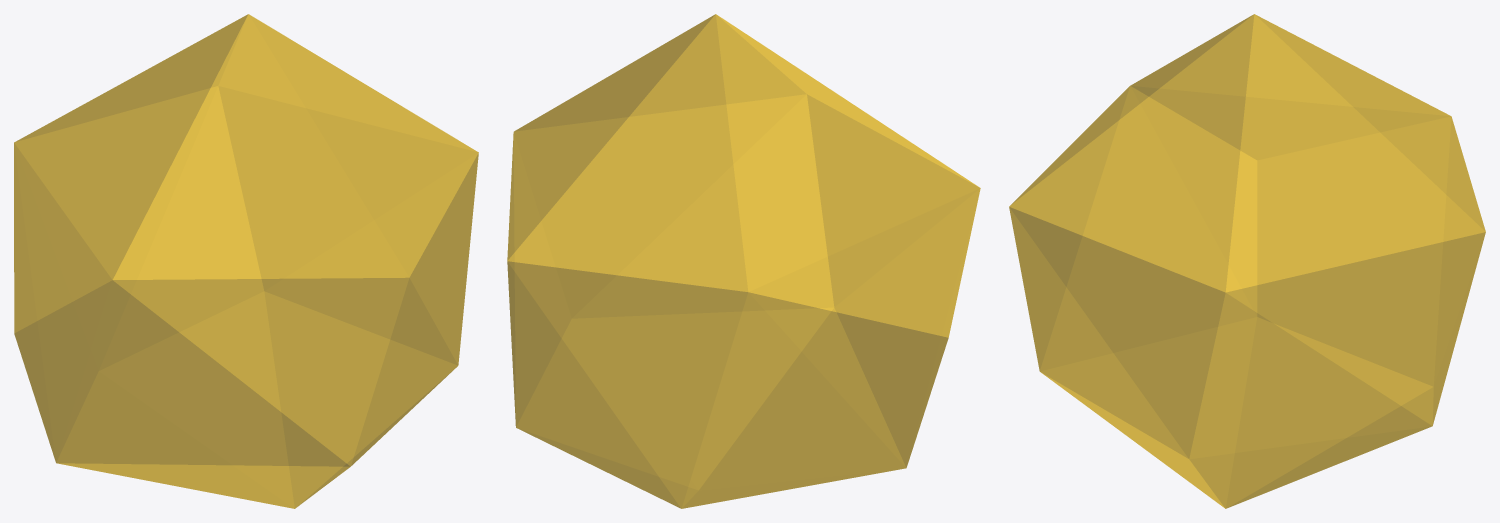
File: sparkYellow.dae
The picture shows the model from 3 angles, left to right: view 1: azimuth 30°, elevation 25°; view 2: azimuth 150°, elevation 25°; view 3: azimuth 270°, elevation 25°; orthographic projection. The views are drawn at different scales.
Parts seen in each view (by area): view 1: spark3; view 2: spark3; view 3: spark3.
Boxes of the visible parts, x1,y1,x2,y2 form: spark3: (14, 14, 478, 508); spark3: (507, 14, 980, 508); spark3: (1009, 14, 1485, 508).
Size of the model in its own units: 0.095 by 0.0897 by 0.0996.
